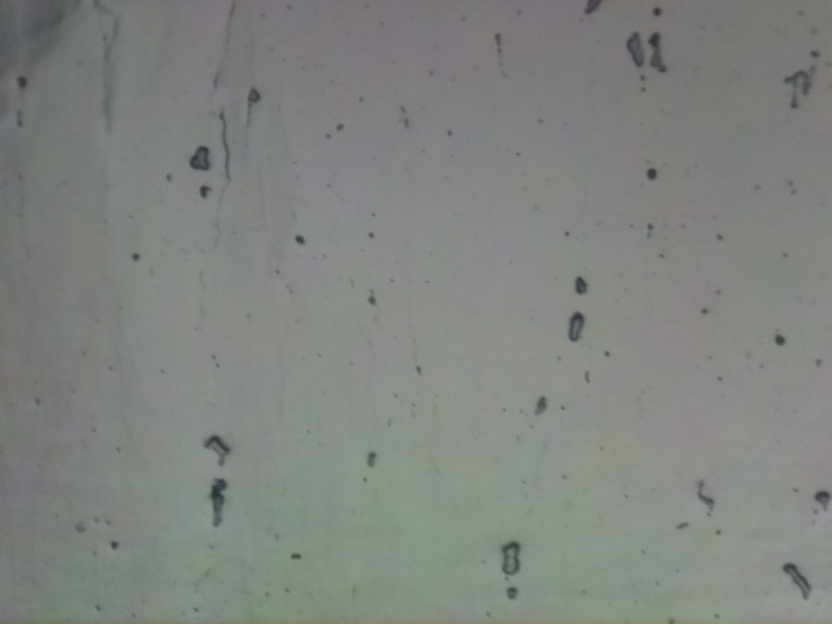crack: (209, 106, 244, 189)
